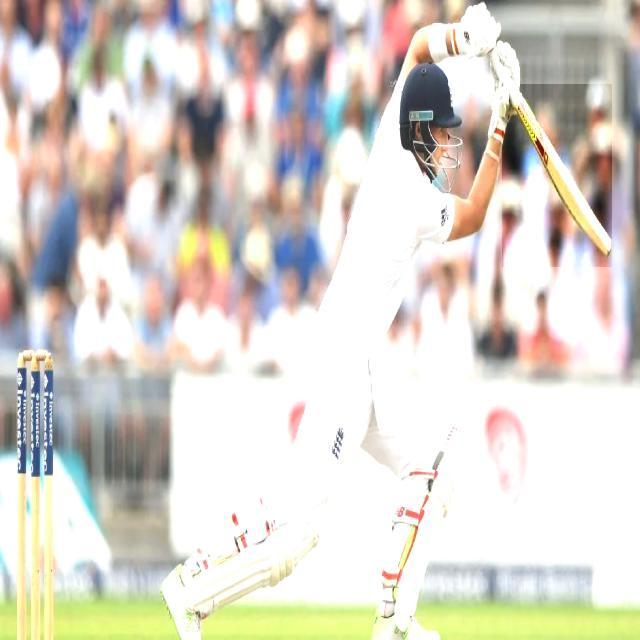bat: (511, 86, 617, 263)
